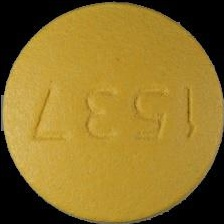0527-1537: (0, 0, 224, 224)
